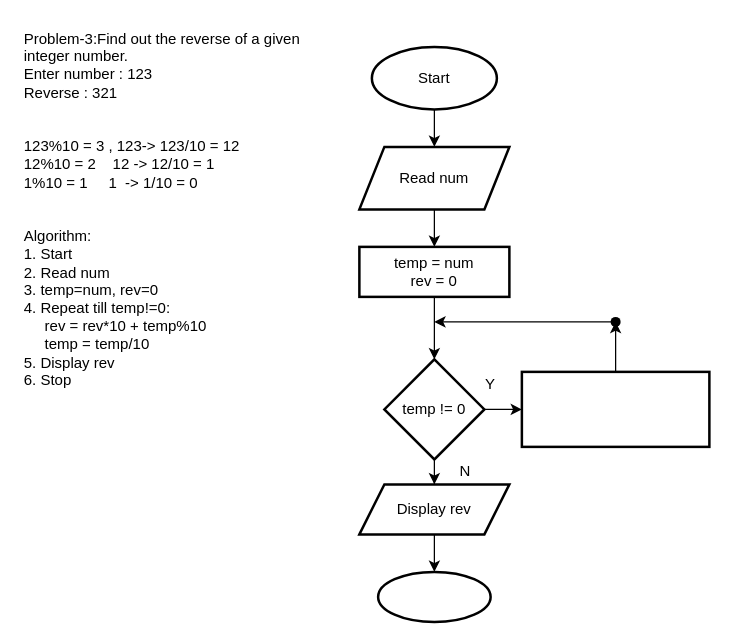
Some shapes in this 731 by 644 pixel diagram are drawn without their labels. Each missing label, with the box of its shape:
rev = rev*10 + temp%10 temp = temp/10: (520, 370, 710, 448)
Stop: (376, 570, 491, 622)
